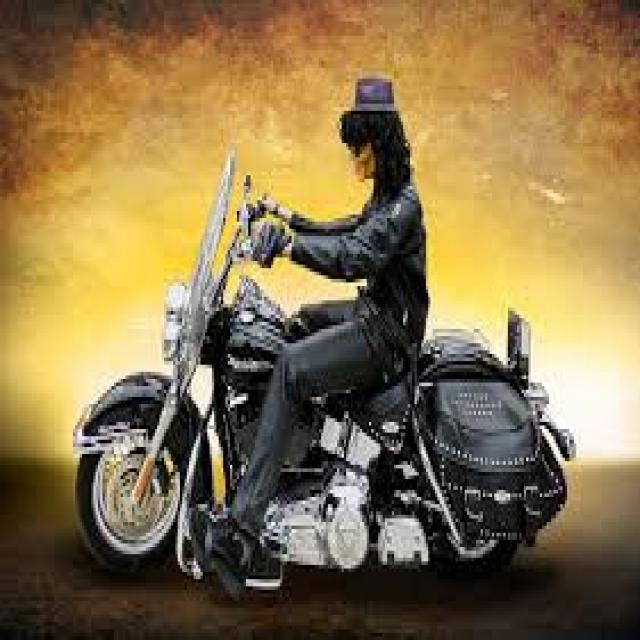Bike: (70, 147, 578, 583)
